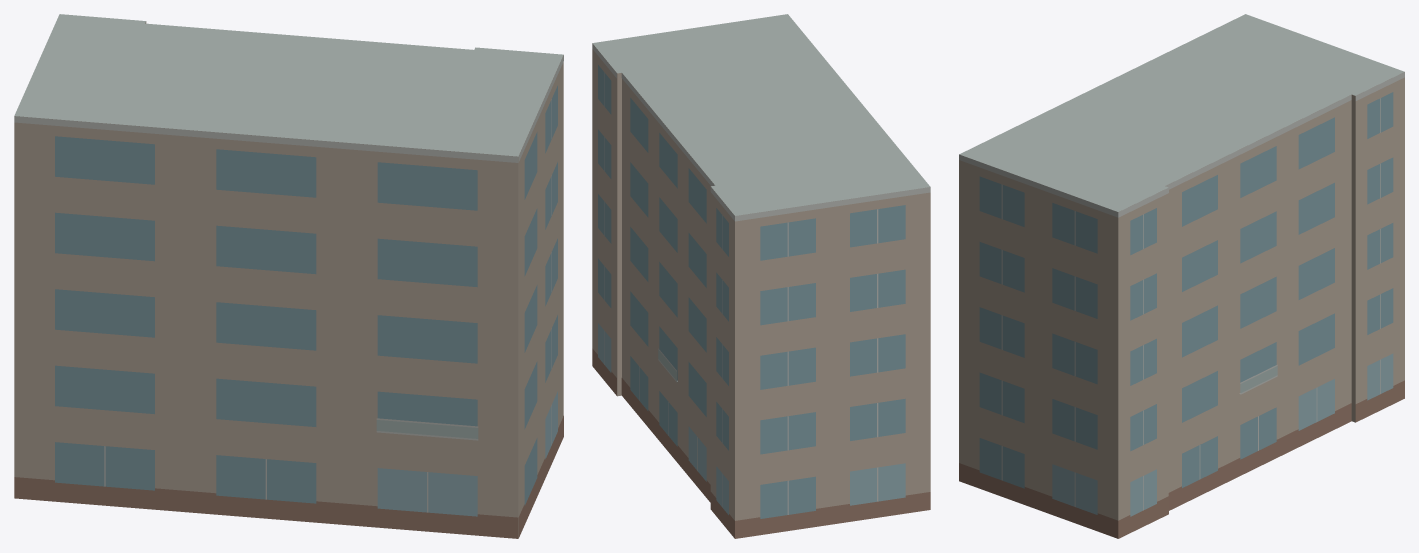
Rendered from survey-upis-32928401.glb.
The picture shows the model from 3 angles, left to right: view 1: azimuth 30°, elevation 25°; view 2: azimuth 150°, elevation 25°; view 3: azimuth 270°, elevation 25°; orthographic projection. The views are drawn at different scales.
Parts seen in each view (by area): view 1: survey-upis-32928401.tmp; view 2: survey-upis-32928401.tmp; view 3: survey-upis-32928401.tmp.
Boxes of the visible parts, x1=… form: survey-upis-32928401.tmp: x1=14, y1=14, x2=563, y2=538; survey-upis-32928401.tmp: x1=592, y1=14, x2=930, y2=538; survey-upis-32928401.tmp: x1=959, y1=14, x2=1404, y2=538.
Bounding box in the file's own units: 18.67 × 14.35 × 17.75.
